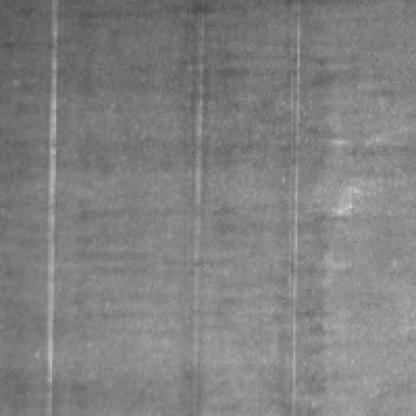scratches: (36, 6, 64, 408)
